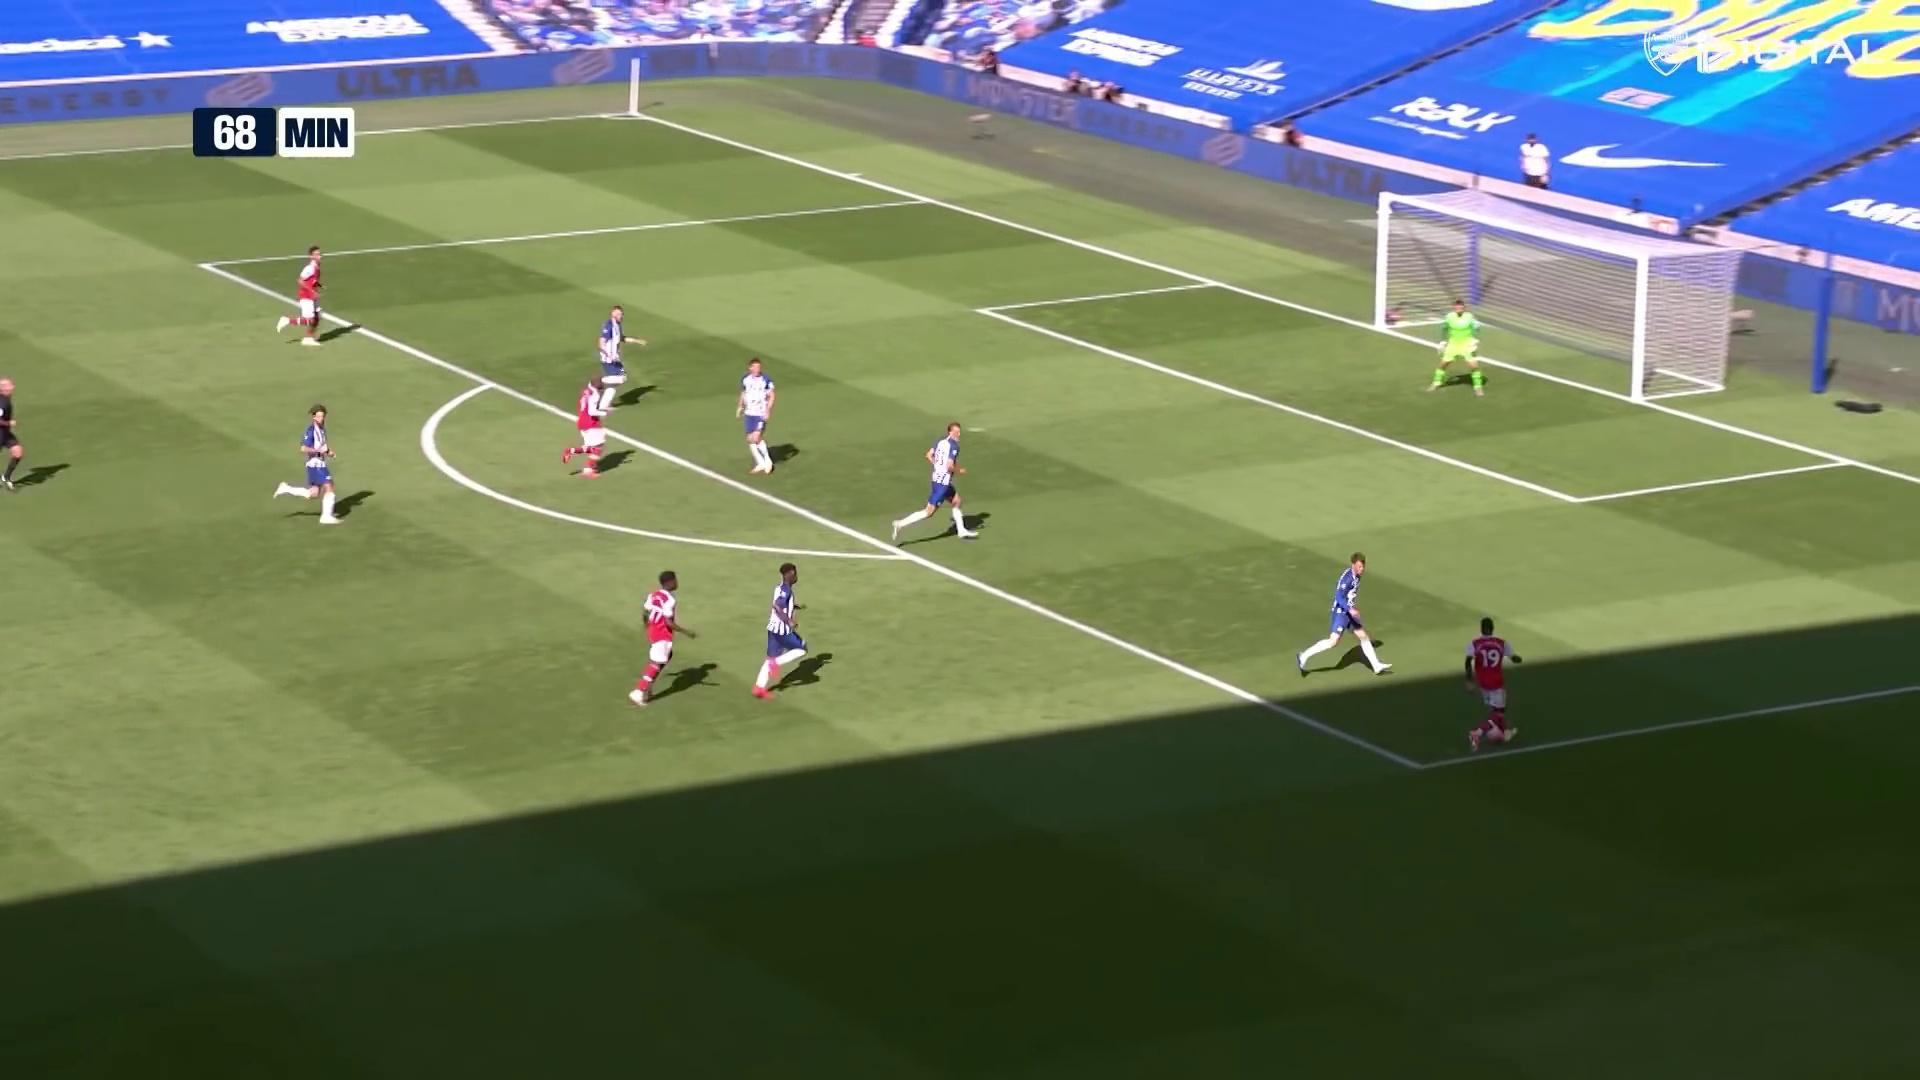ball: (1486, 722, 1508, 748)
goalkeeper: (1424, 301, 1489, 401)
player: (1297, 550, 1392, 683), (891, 418, 980, 545), (626, 569, 700, 712), (272, 402, 348, 528), (1458, 614, 1522, 760), (749, 562, 813, 706), (589, 303, 652, 415), (274, 245, 335, 348), (735, 354, 783, 480), (564, 370, 616, 480)
referee: (0, 369, 30, 496)
